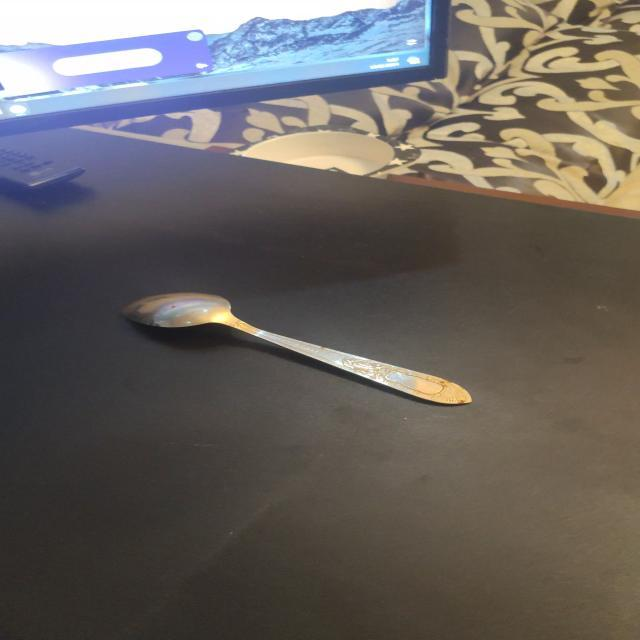plastic utensil: (122, 292, 471, 404)
